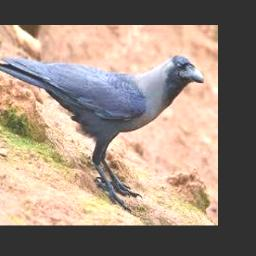Crow: (0, 54, 203, 211)
